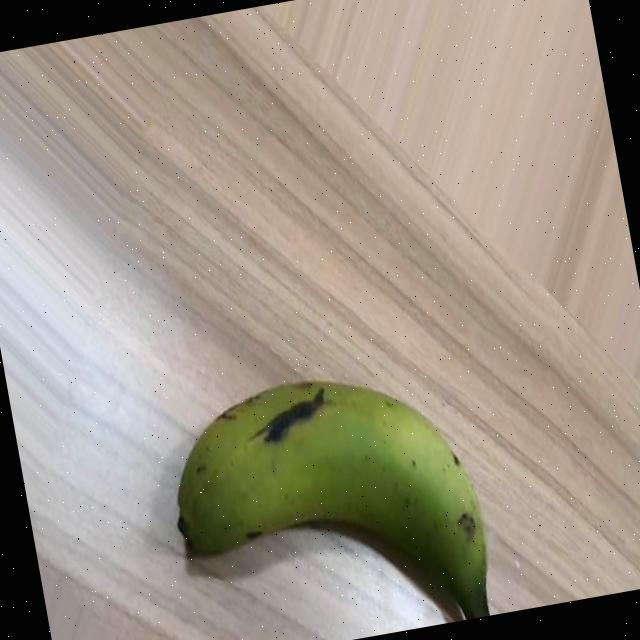Unripe: (155, 353, 498, 640)
